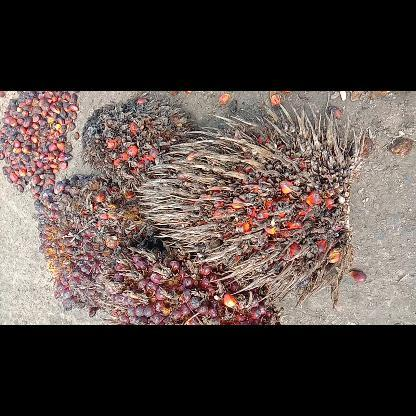TBS masak: (34, 175, 158, 315), (96, 240, 280, 324)
Terlalu masak: (136, 102, 366, 309), (82, 98, 194, 188)
